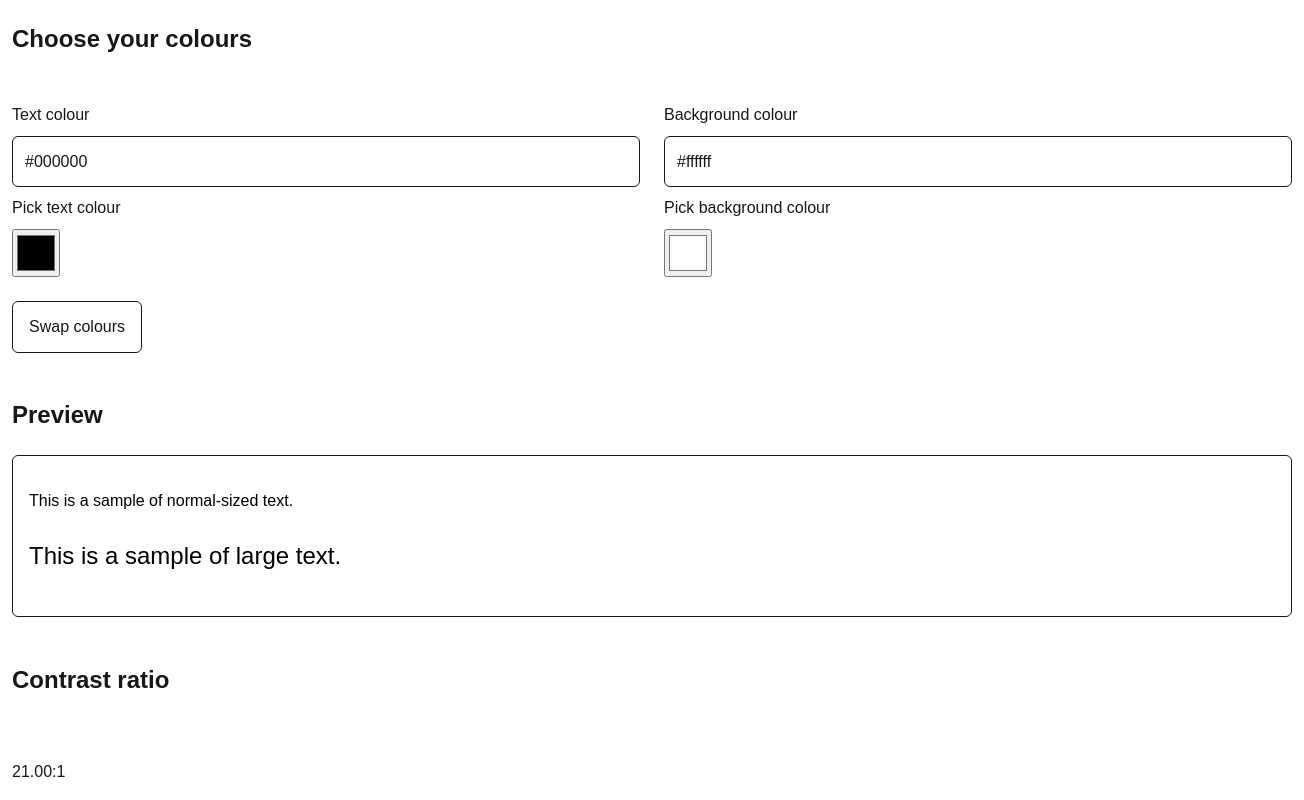
Test: preserves valid results during invalid input and clears the error when corrected
Replace the text in the field labelled "Text colour" with "#xyz" at (326, 162), box [12,136,640,187]
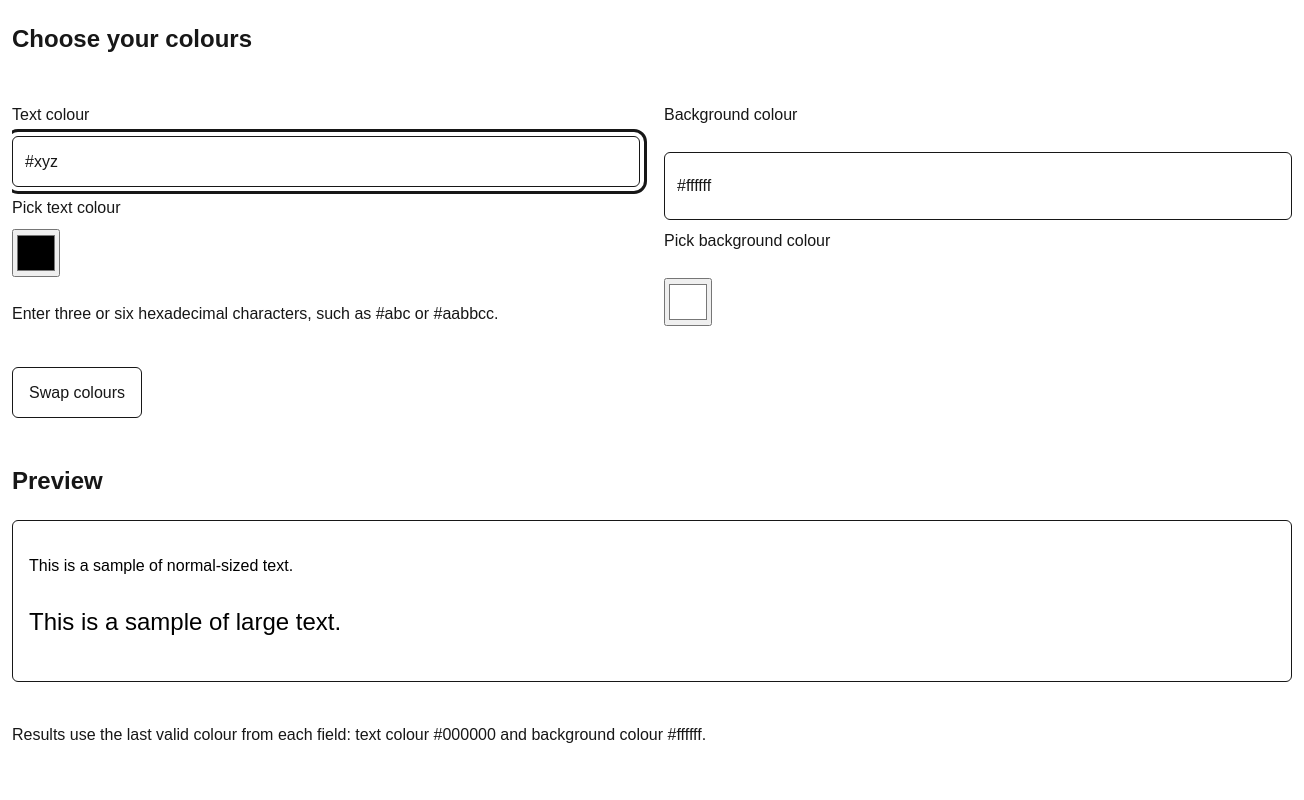
Now the field labelled "Text colour" is marked as invalid
Replace the text in the field labelled "Text colour" with "#ffffff" at (326, 162), box [12,136,640,187]
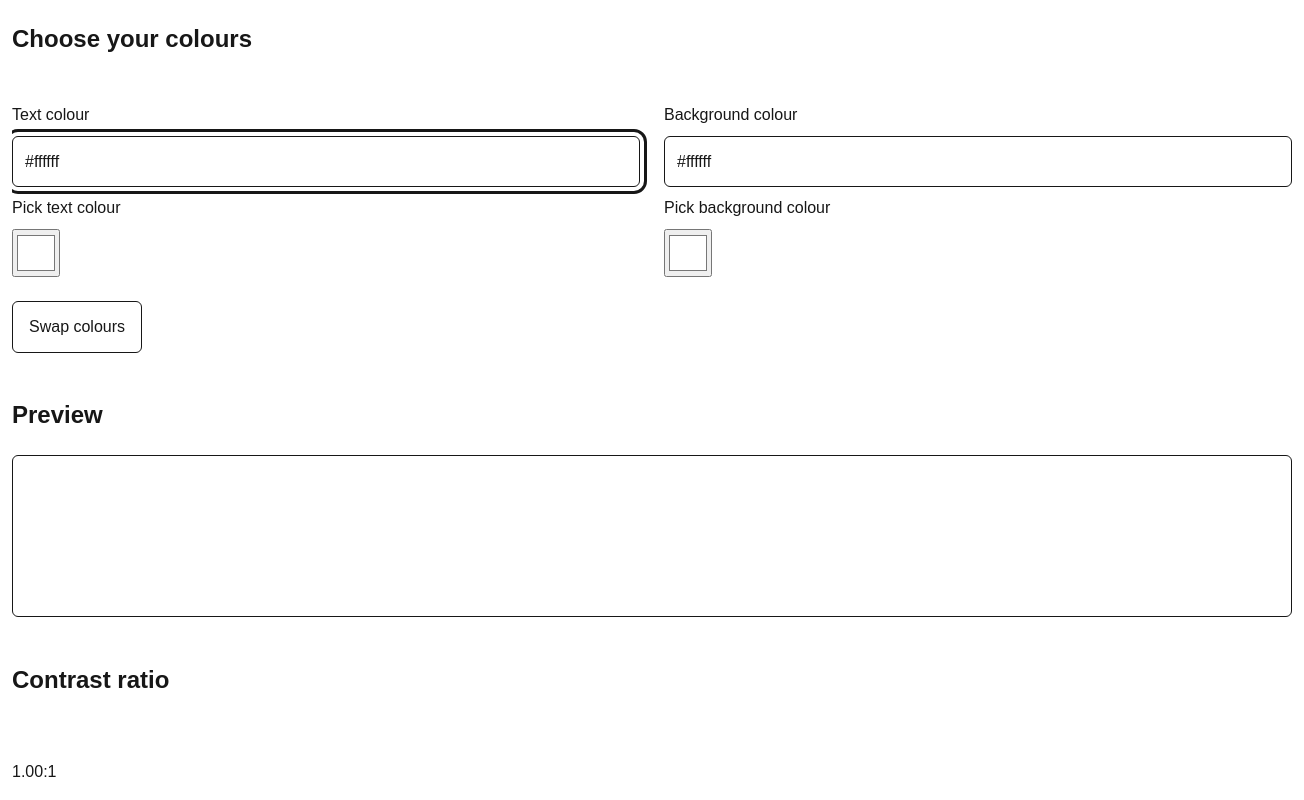
Expected: the text "1.00:1" is shown, [12,763,56,780]
Now the text "Enter three or six hexadecimal characters, such as #abc or #aabbcc." is gone
